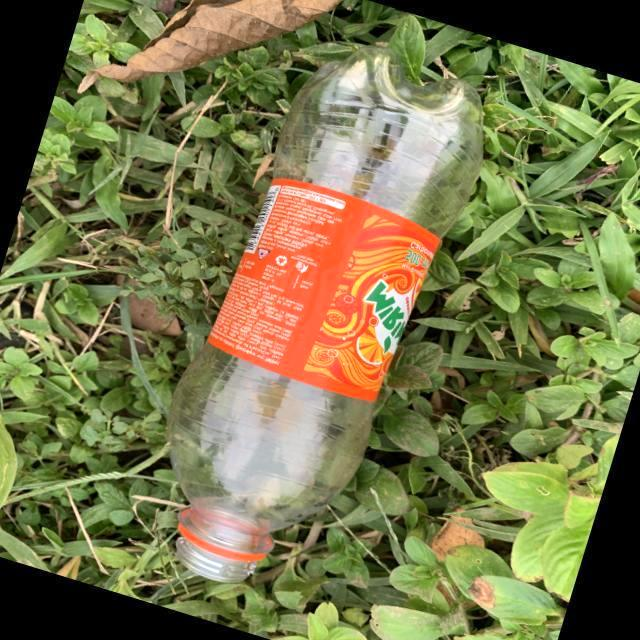bottle: (142, 43, 505, 548)
